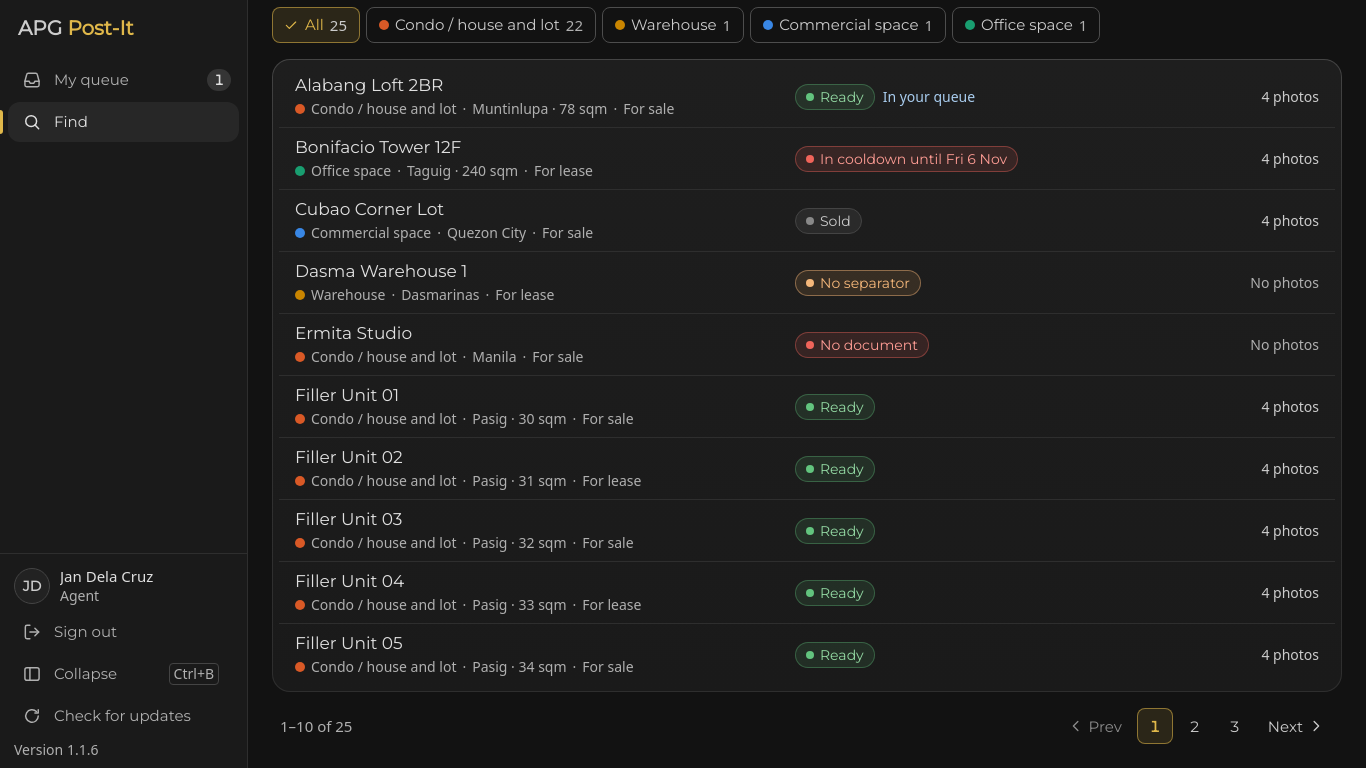
Test: Find, a page at a time › shows ten a page with the range and the pages, and goes to the next
(page scrolled)
Expected: the text "Alabang Loft 2BR" is shown, x1=295 y1=75 x2=443 y2=95
Expected: the text "Ready" is shown, x1=795 y1=84 x2=875 y2=110
Step 1. Click the button with aria-label "Next page" → (1295, 726), box x1=1257 y1=708 x2=1334 y2=744
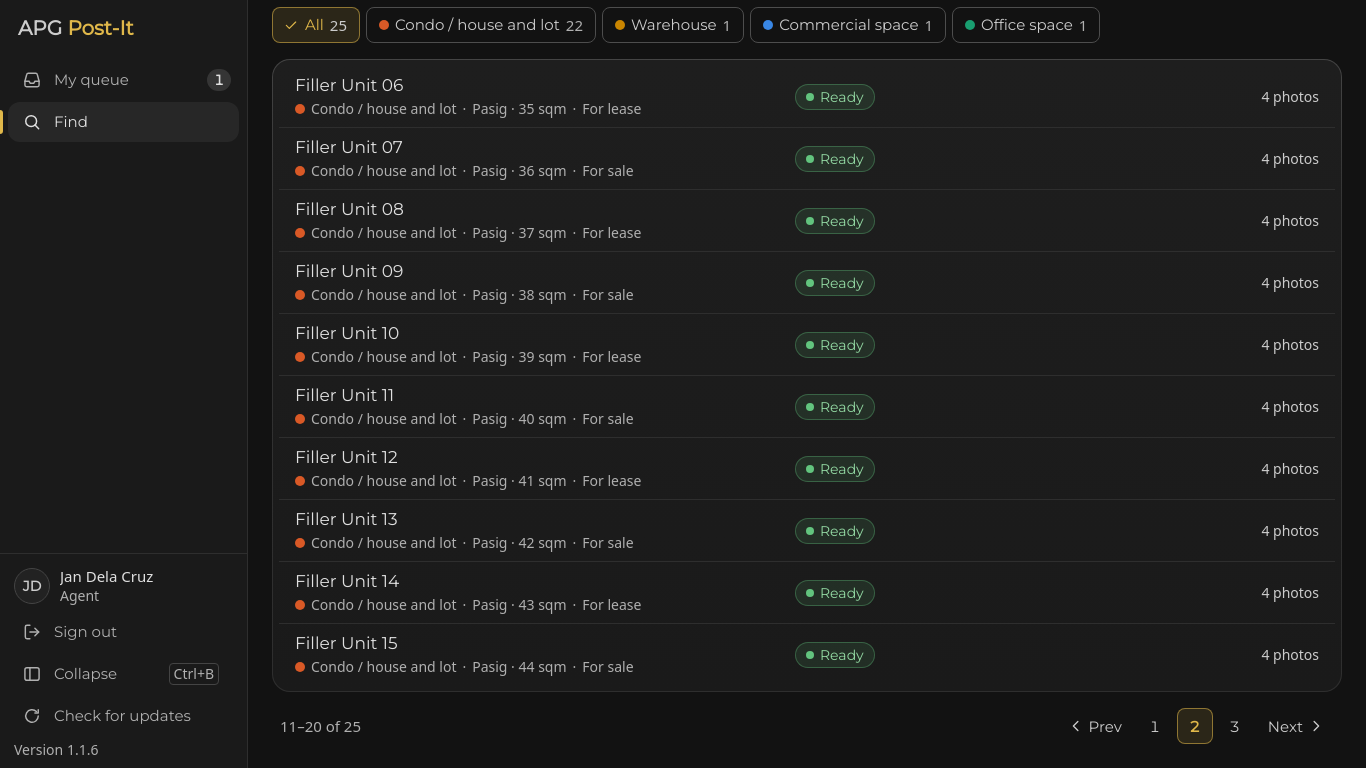
Now the text with class "find-row__name" reads "Filler Unit 06", box x1=295 y1=75 x2=403 y2=95
Note: From the list's top, Down is the first row.
Step 2. Press Arrowdown
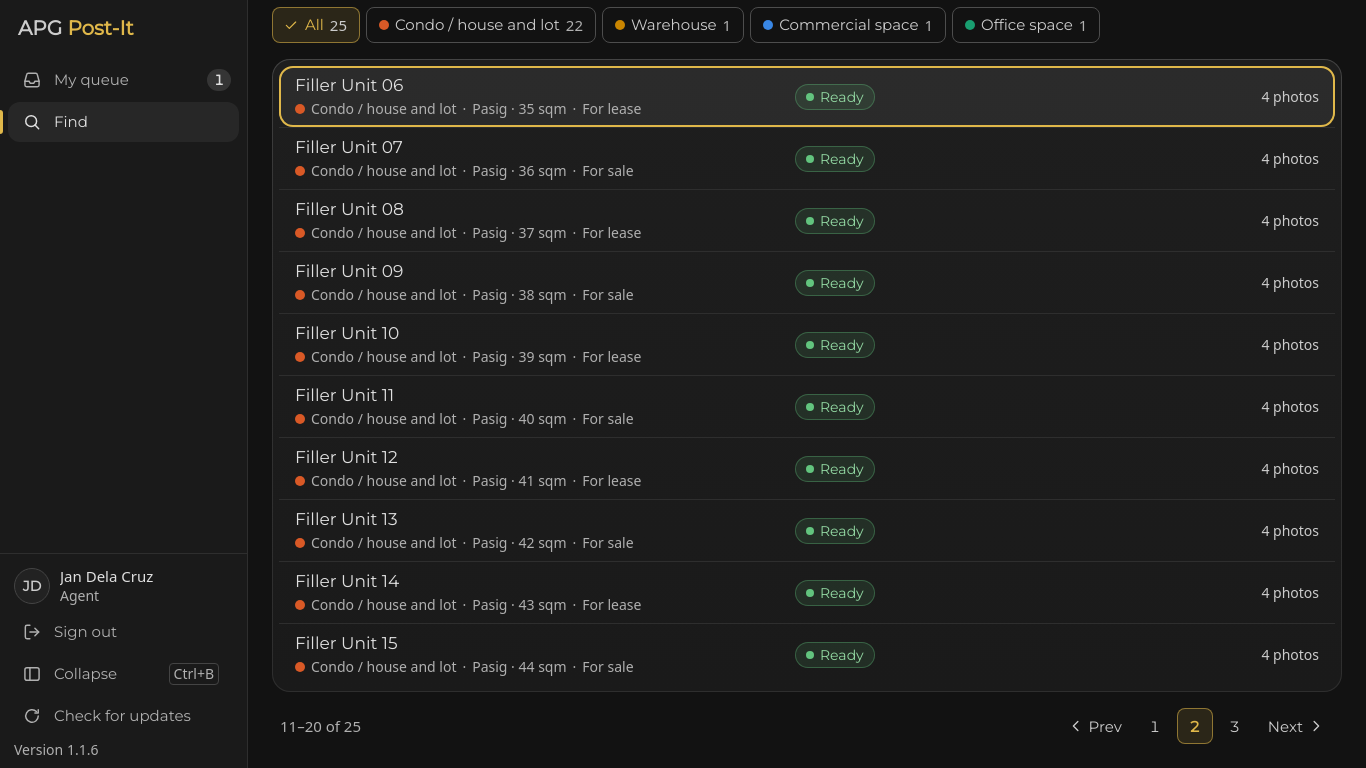
Step 3. Click the button named "Page 3" → (1235, 726), box x1=1217 y1=708 x2=1253 y2=744
(page scrolled)
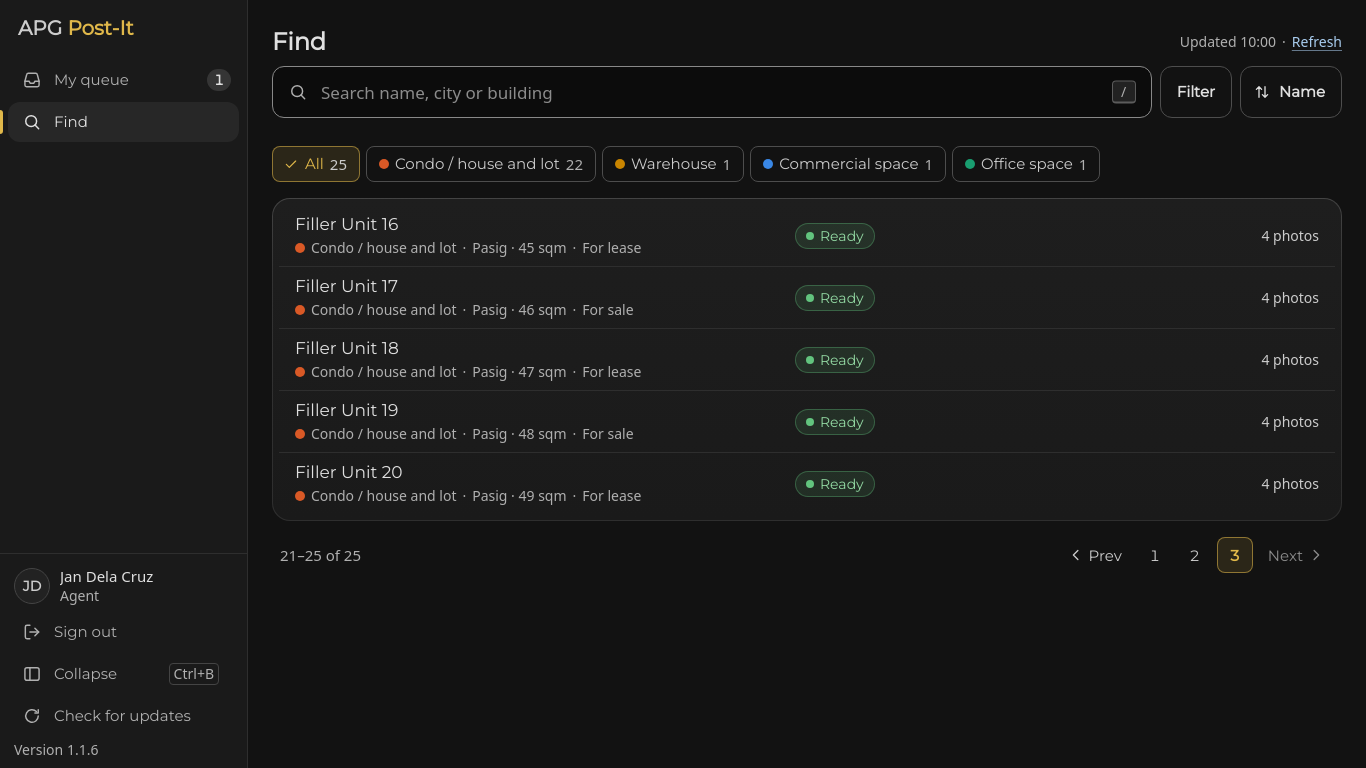
Now the element named "Pages" shows "21–25 of 25", box x1=280 y1=545 x2=361 y2=565
